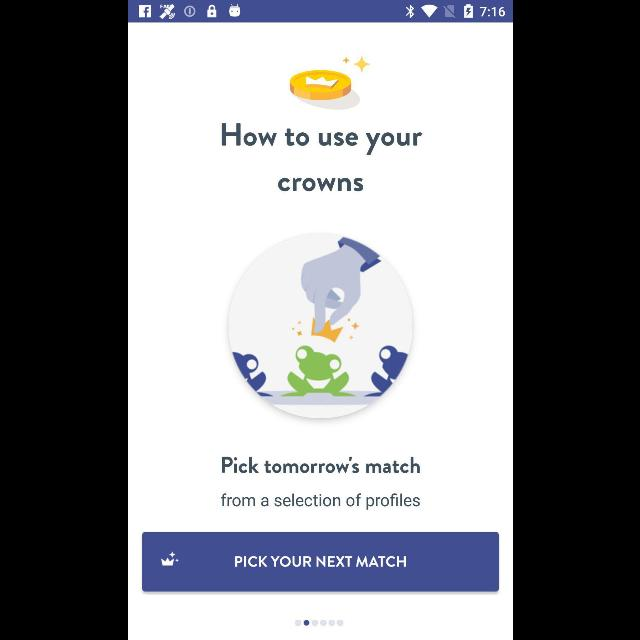image: (225, 233, 413, 419), (288, 56, 370, 110)
pageindicator: (294, 620, 342, 626)
text: (220, 122, 422, 156), (220, 456, 420, 474), (220, 494, 420, 511), (277, 178, 363, 192)
textbutton: (142, 532, 498, 592)
uppertaskbar: (128, 1, 512, 23)
